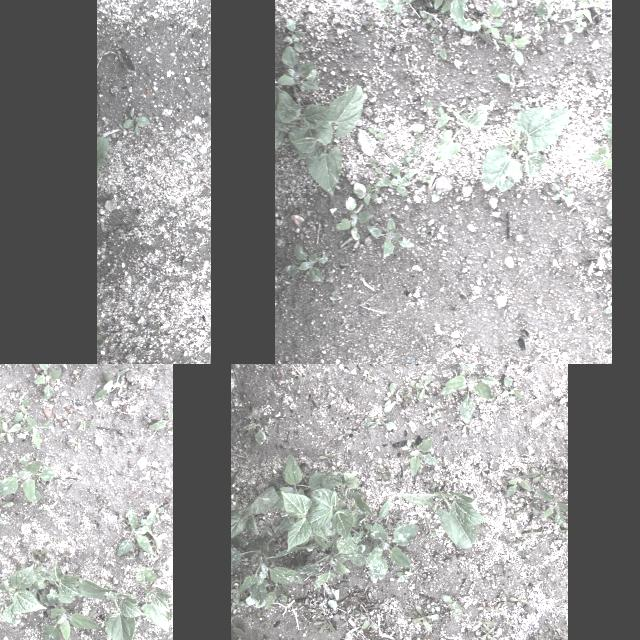crop: (276, 84, 366, 200), (39, 565, 153, 640), (479, 106, 575, 192), (231, 516, 317, 610), (281, 472, 373, 552), (396, 475, 489, 549), (431, 104, 494, 160), (0, 562, 46, 626), (417, 0, 501, 34), (134, 564, 172, 634), (231, 486, 279, 538), (98, 134, 114, 172), (231, 473, 235, 487)
weed: (268, 454, 348, 518), (296, 532, 370, 590), (438, 364, 499, 421), (366, 522, 418, 584), (0, 454, 58, 506), (118, 507, 166, 557), (276, 241, 328, 287), (276, 46, 322, 96), (367, 215, 415, 261), (330, 195, 376, 242), (559, 0, 606, 45), (523, 0, 565, 44), (500, 17, 536, 68), (383, 376, 433, 412), (354, 498, 392, 542), (374, 162, 420, 196), (586, 112, 612, 172), (398, 436, 436, 476), (89, 368, 131, 404), (16, 416, 56, 450), (480, 0, 510, 44), (282, 17, 312, 59), (536, 488, 568, 526), (31, 364, 62, 403), (399, 130, 428, 164), (122, 106, 150, 140), (349, 182, 388, 206), (242, 408, 268, 444), (411, 603, 439, 633), (504, 472, 538, 496), (372, 0, 421, 16), (428, 32, 450, 66), (552, 179, 576, 207), (0, 419, 24, 447), (13, 394, 33, 426), (322, 284, 346, 310), (147, 410, 173, 434), (442, 592, 464, 620), (362, 124, 390, 144), (502, 376, 522, 404), (419, 5, 443, 28), (354, 609, 380, 629), (230, 579, 246, 611), (472, 613, 496, 631), (492, 70, 518, 86), (422, 96, 436, 125), (364, 418, 396, 430), (568, 198, 588, 216), (356, 12, 378, 28), (424, 518, 440, 540), (367, 158, 385, 176), (416, 223, 432, 243), (602, 203, 612, 235), (0, 501, 16, 519), (342, 11, 356, 31), (314, 620, 334, 634), (424, 406, 438, 426), (526, 496, 540, 516), (584, 219, 600, 235), (590, 258, 606, 274), (402, 64, 418, 80), (530, 467, 546, 483), (396, 566, 412, 582), (432, 187, 446, 205), (510, 595, 530, 607), (232, 614, 244, 634), (318, 449, 334, 463), (464, 294, 482, 306), (481, 627, 497, 640), (512, 542, 532, 552), (420, 172, 434, 186), (476, 229, 490, 243), (376, 466, 390, 480), (476, 464, 490, 478), (478, 600, 492, 614), (380, 16, 396, 28), (201, 153, 211, 171), (486, 575, 504, 585), (177, 154, 186, 173), (361, 370, 373, 384), (506, 508, 520, 520), (522, 530, 542, 538), (604, 300, 612, 318), (290, 371, 302, 383), (338, 430, 352, 440), (558, 521, 568, 535), (426, 602, 439, 612), (509, 0, 525, 7), (458, 421, 472, 429), (284, 379, 292, 391), (327, 389, 335, 399), (532, 542, 542, 550), (516, 498, 524, 508), (341, 616, 347, 628), (262, 364, 274, 370), (498, 602, 510, 608), (502, 618, 512, 624), (248, 606, 252, 618), (389, 631, 395, 637), (548, 468, 552, 477), (504, 564, 506, 570)
